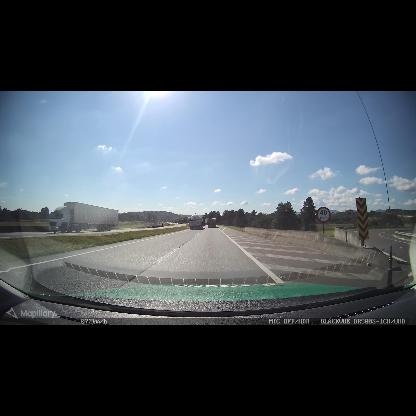O-MP: (355, 198, 369, 240)
R-19: (316, 207, 331, 223)
